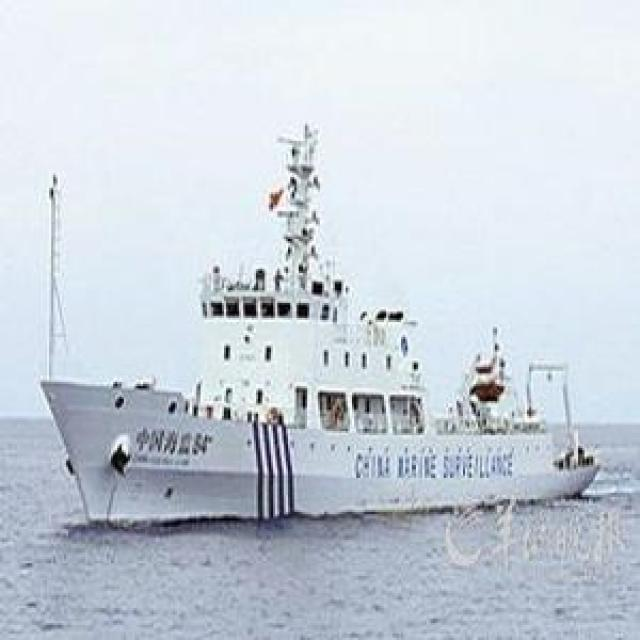navalvessels: (34, 127, 610, 525)
